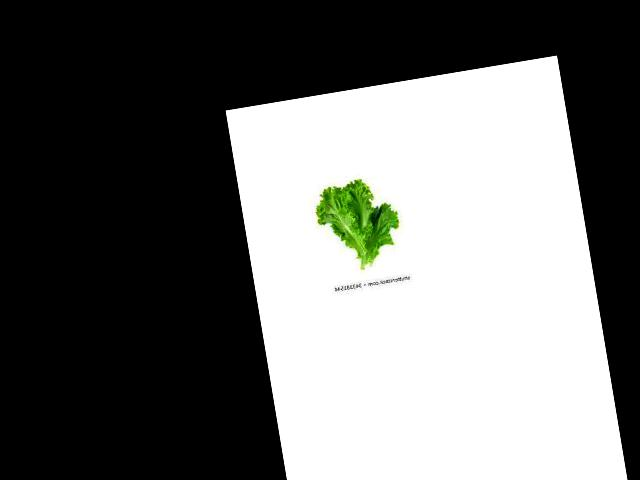lettuce: (328, 179, 423, 306)
